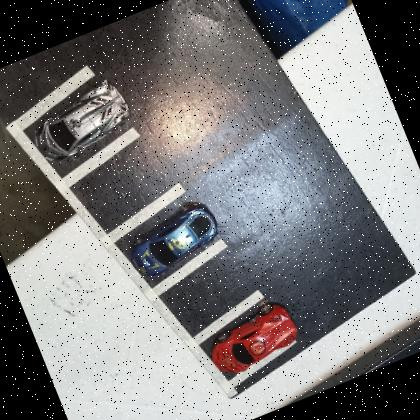Car: (22, 74, 140, 170), (119, 195, 229, 284), (201, 297, 306, 382)
